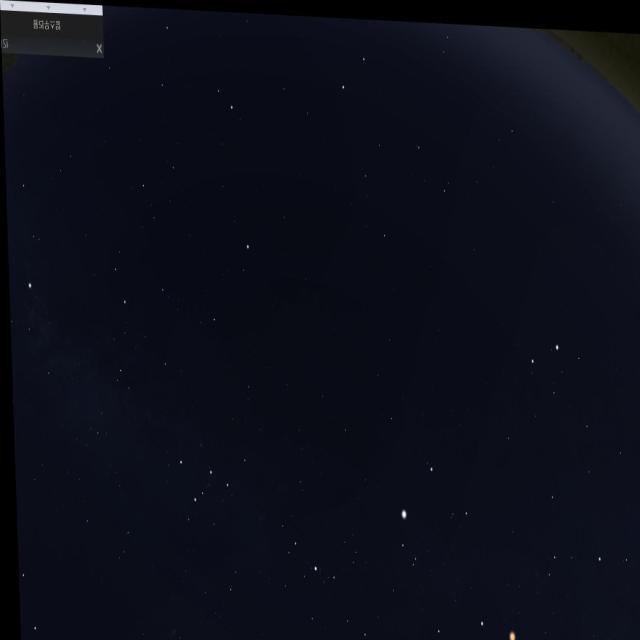cassiopeia: (168, 429, 250, 526)
